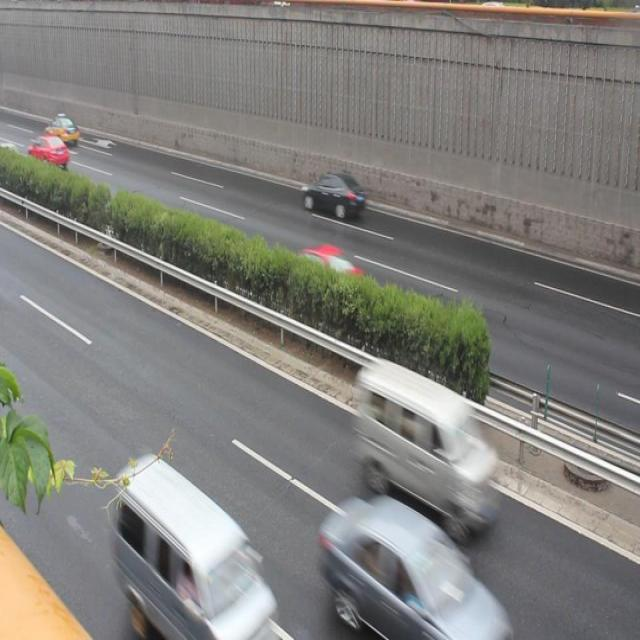car: (320, 498, 510, 640), (280, 241, 364, 309), (302, 169, 365, 217), (28, 134, 70, 169)
truck: (116, 454, 279, 640), (355, 358, 499, 534)
